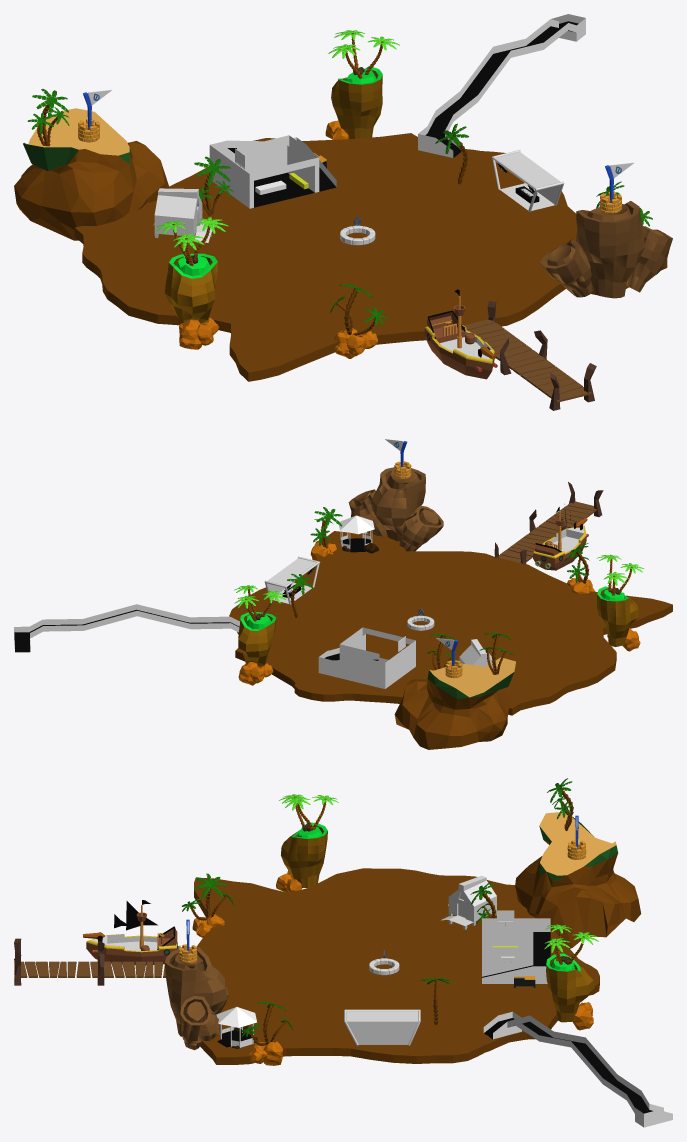
The model's file is MainIsland-transformed.glb.
3 renders of one model, top to bottom at view 1: azimuth 30°, elevation 25°; view 2: azimuth 150°, elevation 25°; view 3: azimuth 270°, elevation 25°, orthographic. The views are drawn at different scales.
Visible parts, largest first — view 1: Ground, bigStone, Flag.001, Station.001, Cylinder.009, Pedestrian bridge1, Cylinder.021, bote.001, PuenteGrande, Home1, MusicSpot.001, Plane.039 (+3 smaller); view 2: Ground, bigStone, Flag.001, Station.001, Pedestrian bridge1, Cylinder.021, Cylinder.009, bote.001, PuenteGrande, MusicSpot.001, Untitled.001, Plane.006 (+3 smaller); view 3: Ground, bigStone, Flag.001, Station.001, Pedestrian bridge1, Cylinder.021, Cylinder.009, bote.001, MusicSpot.001, PuenteGrande, Home1, Plane.006 (+4 smaller).
Part boxes in pixels (box(x1,y1,x2,y2)): Ground: box(74, 133, 667, 381); bigStone: box(14, 108, 169, 240); Flag.001: box(540, 162, 672, 298); Station.001: box(209, 135, 336, 208); Cylinder.009: box(155, 217, 228, 349); Pedestrian bridge1: box(418, 14, 585, 157); Cylinder.021: box(325, 30, 399, 139); bote.001: box(424, 289, 497, 379); PuenteGrande: box(463, 319, 591, 402); Home1: box(153, 188, 216, 242); MusicSpot.001: box(491, 150, 564, 212); Plane.039: box(330, 284, 386, 358); Ground: box(229, 531, 672, 715); bigStone: box(394, 657, 515, 749); Flag.001: box(348, 439, 443, 551); Station.001: box(318, 627, 415, 688); Pedestrian bridge1: box(14, 604, 239, 652); Cylinder.021: box(234, 585, 286, 685); Cylinder.009: box(597, 554, 644, 651); bote.001: box(533, 504, 588, 570); PuenteGrande: box(497, 501, 596, 563); MusicSpot.001: box(264, 556, 320, 604); Untitled.001: box(338, 515, 374, 552); Plane.006: box(310, 507, 342, 560); Ground: box(194, 868, 599, 1064); bigStone: box(515, 812, 641, 948); Flag.001: box(165, 919, 228, 1050); Station.001: box(482, 910, 550, 983); Pedestrian bridge1: box(483, 1011, 672, 1127); Cylinder.021: box(544, 924, 598, 1030); Cylinder.009: box(276, 794, 338, 892); bote.001: box(83, 900, 180, 965); MusicSpot.001: box(344, 1009, 420, 1045); PuenteGrande: box(14, 961, 165, 977); Home1: box(441, 875, 497, 929); Plane.006: box(241, 1001, 293, 1065).
Bounding box in the file's own units: 71.59 × 16.87 × 76.88.
